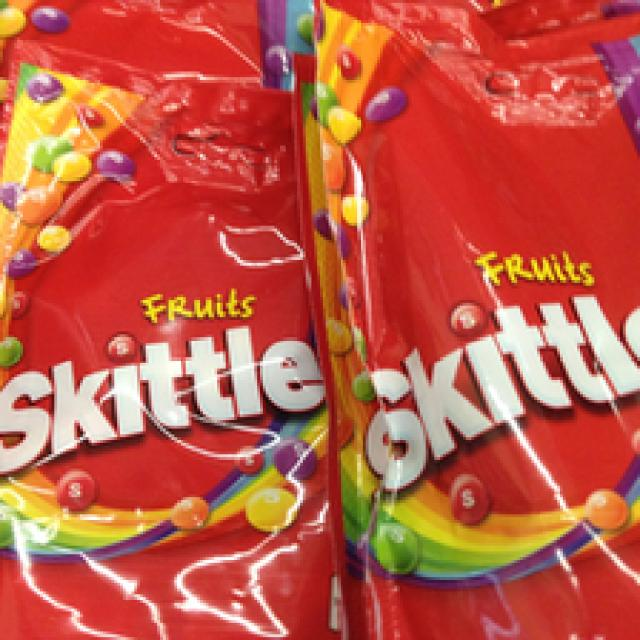groceries: (303, 9, 637, 632), (6, 57, 328, 637)
